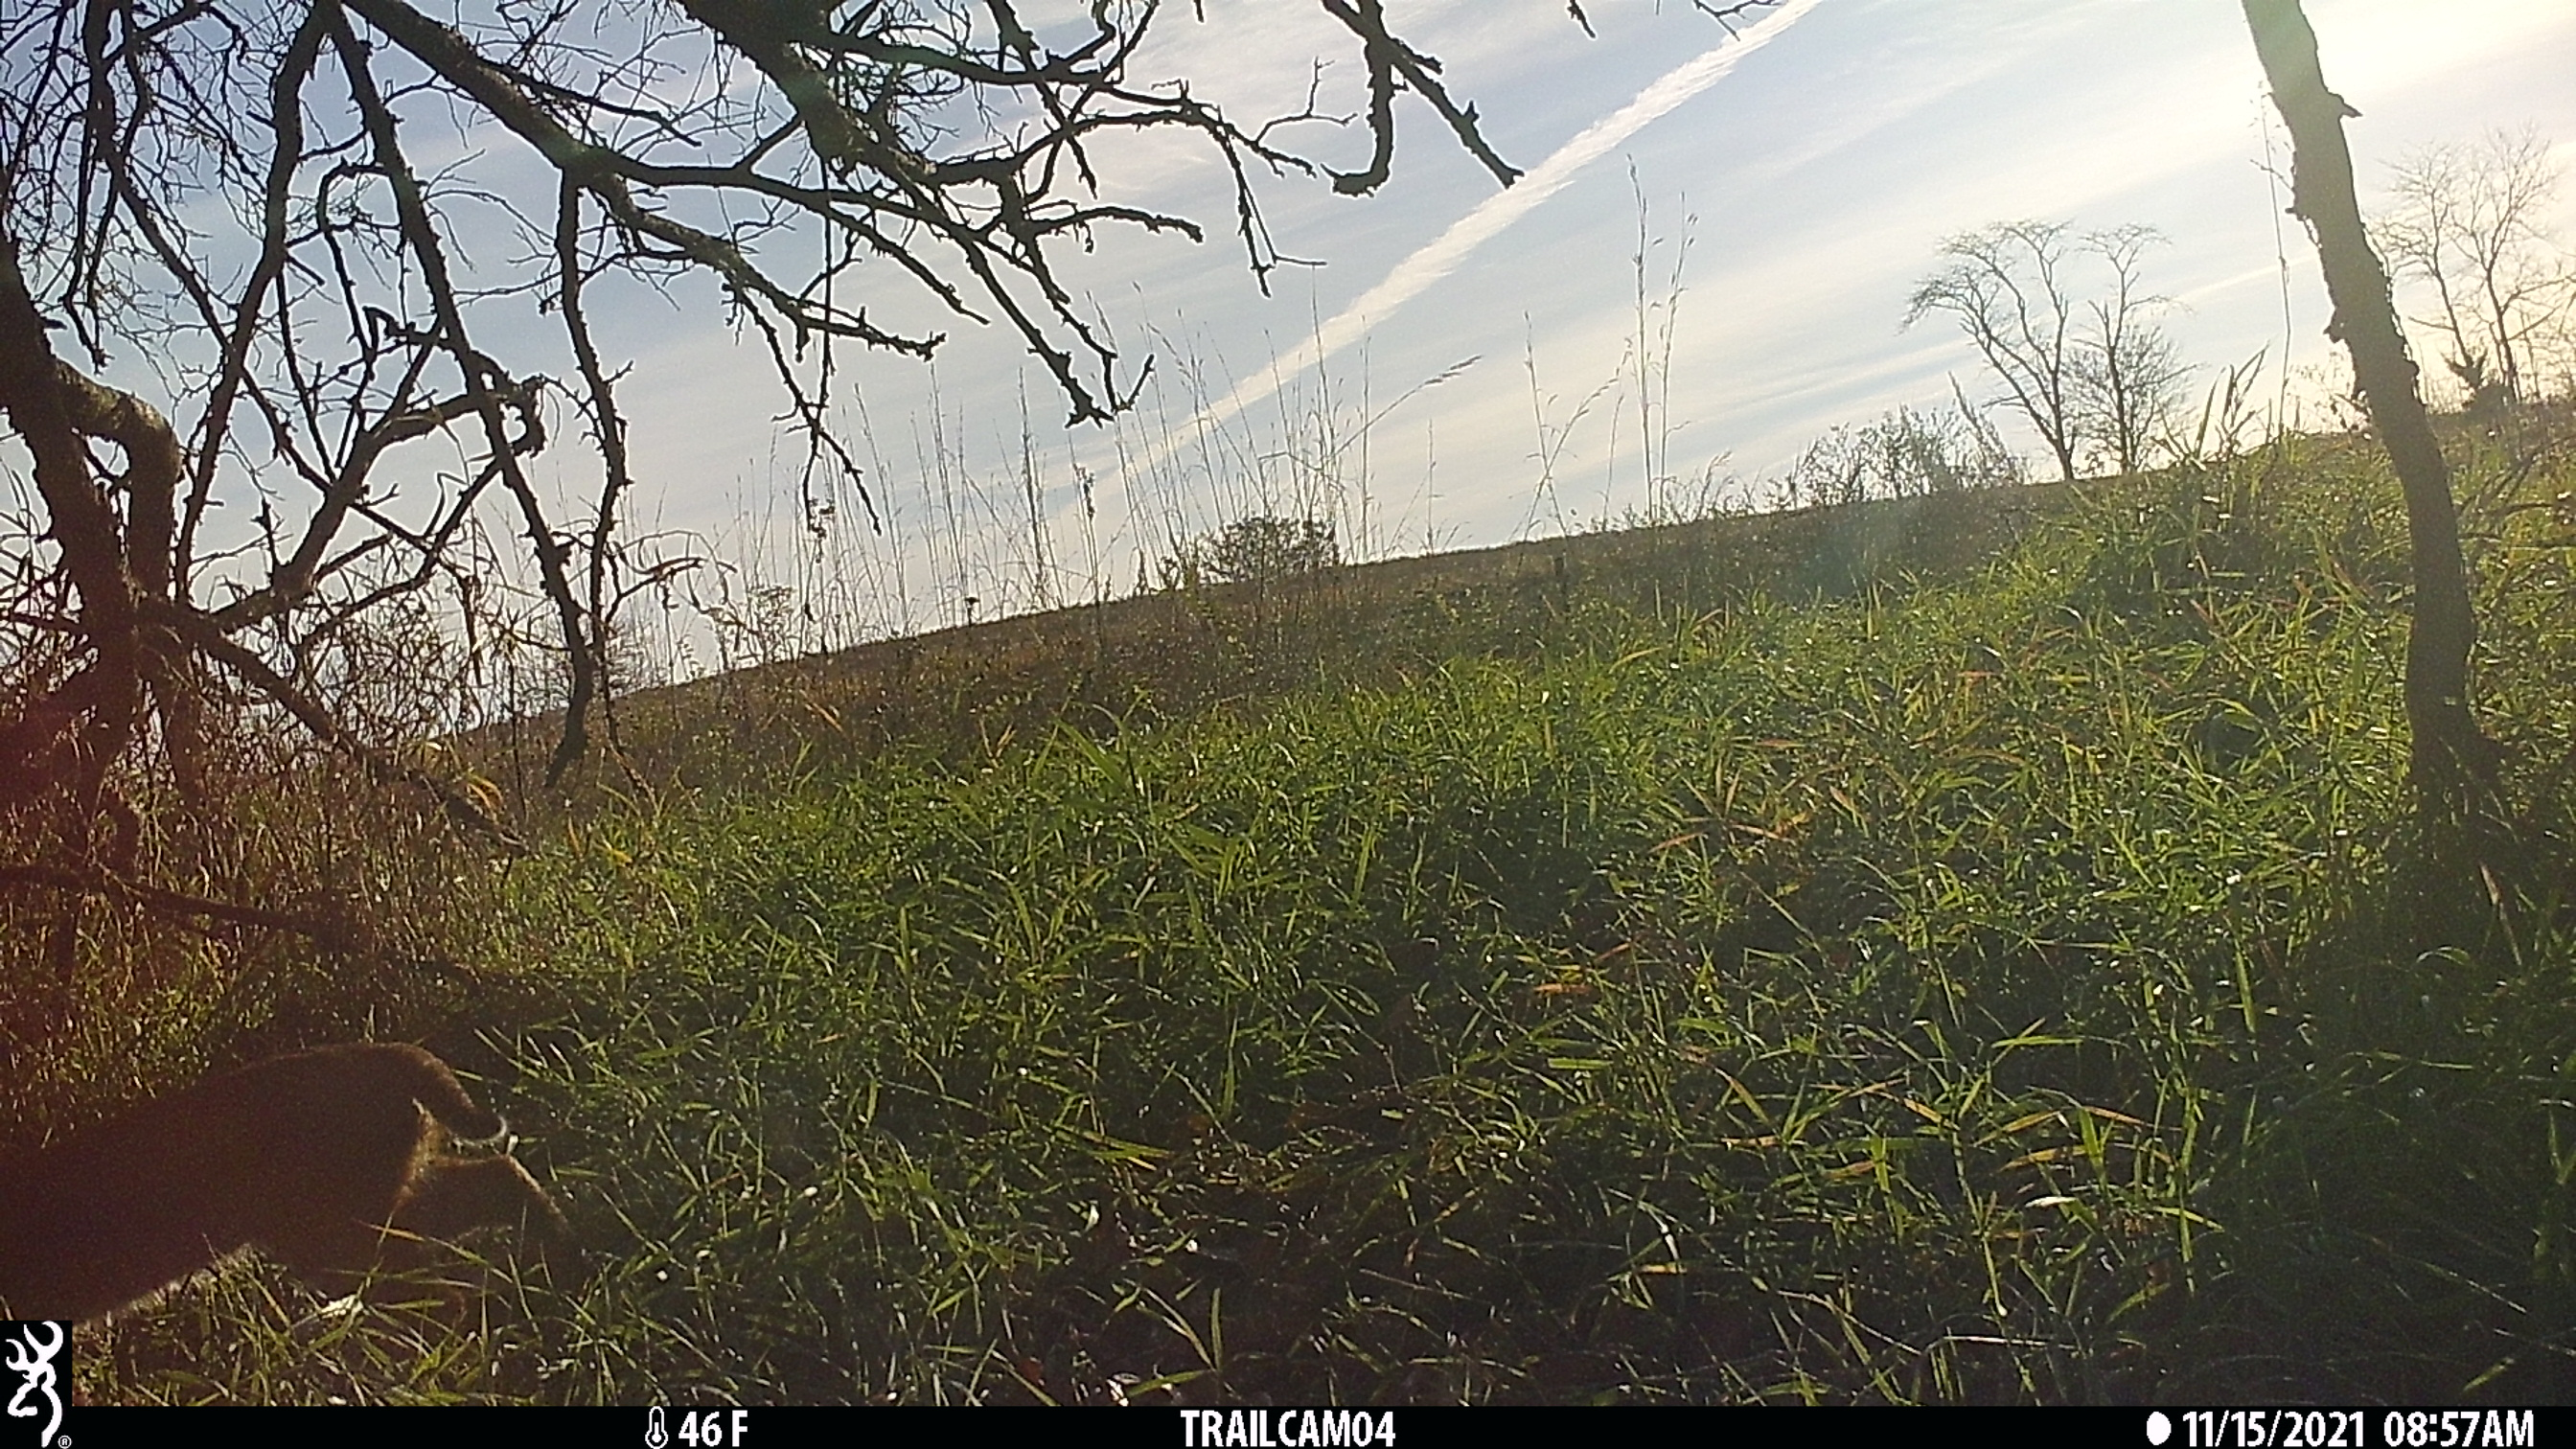Bobcat: (2, 1035, 582, 1345)
